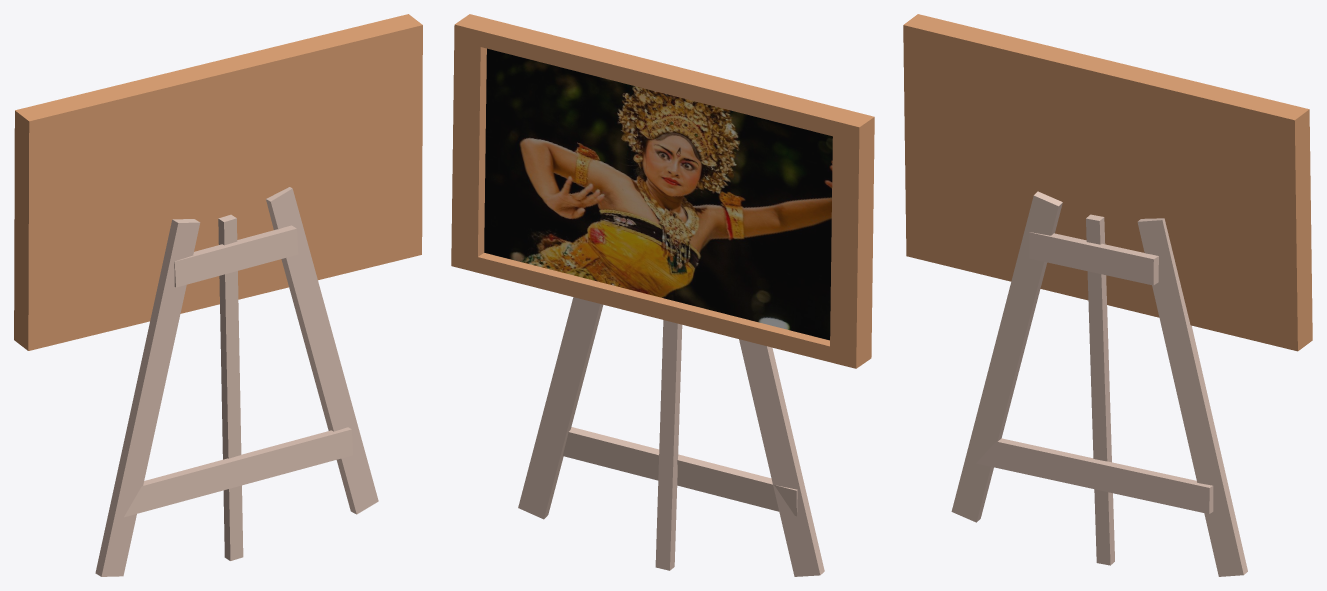
File: Frame.fbx
3 views of the same model, side by side, from view 1: azimuth 30°, elevation 25°; view 2: azimuth 150°, elevation 25°; view 3: azimuth 330°, elevation 25° (orthographic). The views are drawn at different scales.
Visible parts, largest first — view 1: Plane.010, standing.001; view 2: Plane.010, standing.001; view 3: Plane.010, standing.001.
Part boxes in pixels (x1,y1,x2,y2): Plane.010: (14, 14, 422, 350); standing.001: (95, 187, 378, 576); Plane.010: (451, 14, 874, 368); standing.001: (518, 297, 824, 576); Plane.010: (903, 14, 1312, 351); standing.001: (951, 191, 1247, 576).
Size of the model in its own units: 2070 by 2450 by 261.
7 materials, 1 textured.
